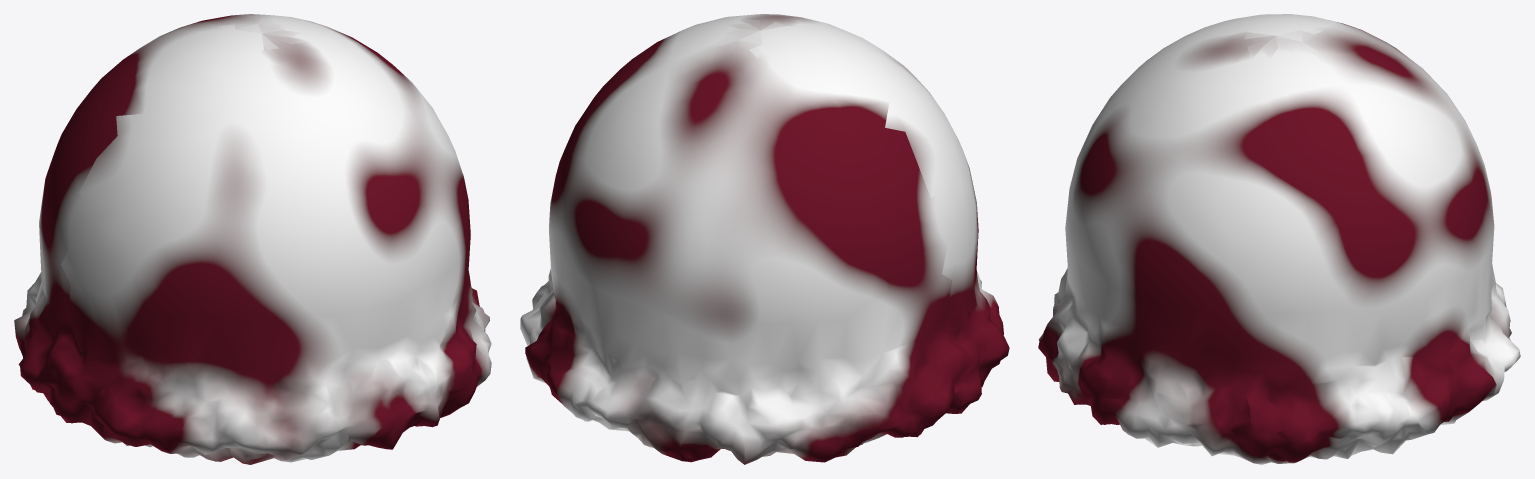
The model's file is IceCream_Vanilla.fbx.
3 renders of one model, left to right at view 1: azimuth 30°, elevation 25°; view 2: azimuth 150°, elevation 25°; view 3: azimuth 270°, elevation 25°, orthographic.
Visible parts, largest first — view 1: IceCream_Vanilla; view 2: IceCream_Vanilla; view 3: IceCream_Vanilla.
Part boxes in pixels (<box>): IceCream_Vanilla: <box>14,14,491,464</box>; IceCream_Vanilla: <box>520,14,1009,464</box>; IceCream_Vanilla: <box>1038,14,1520,464</box>.
Bounding box in the file's own units: 220 × 183 × 222.
